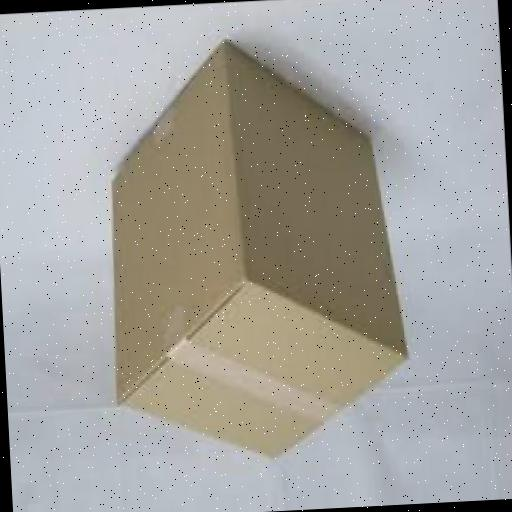cardboard: (99, 32, 414, 469)
